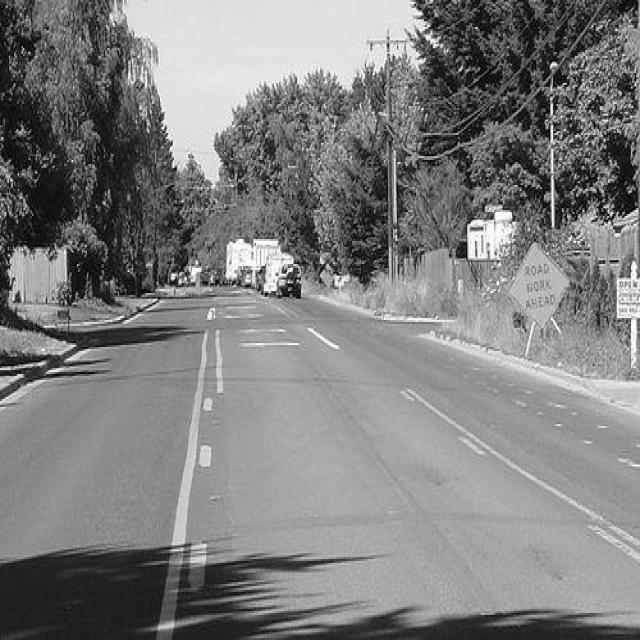vehicle: (260, 251, 302, 300), (252, 239, 280, 288), (277, 262, 303, 297), (236, 266, 252, 286), (256, 266, 266, 297)
